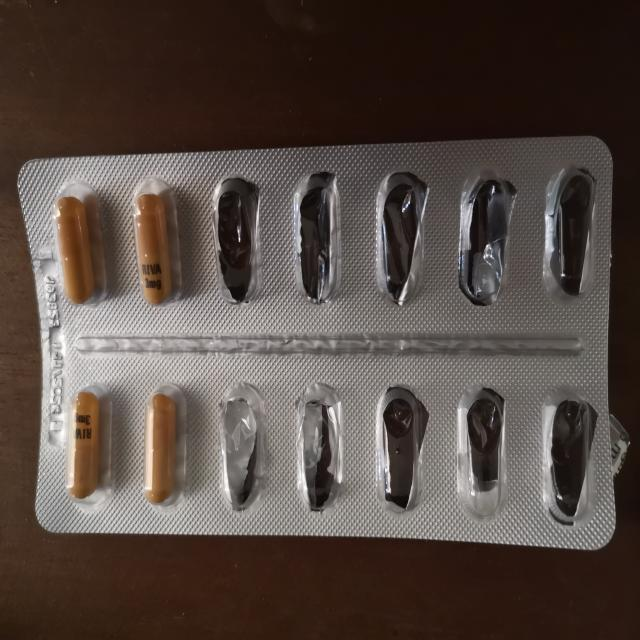Empty: (370, 166, 435, 312), (536, 385, 602, 528), (457, 166, 519, 310), (540, 161, 603, 302), (206, 174, 269, 309), (288, 167, 349, 304), (370, 381, 429, 515), (453, 380, 509, 520), (288, 380, 346, 514), (215, 380, 270, 515)
Pill: (125, 174, 187, 310), (52, 182, 108, 311), (137, 383, 186, 509), (63, 384, 112, 508)
